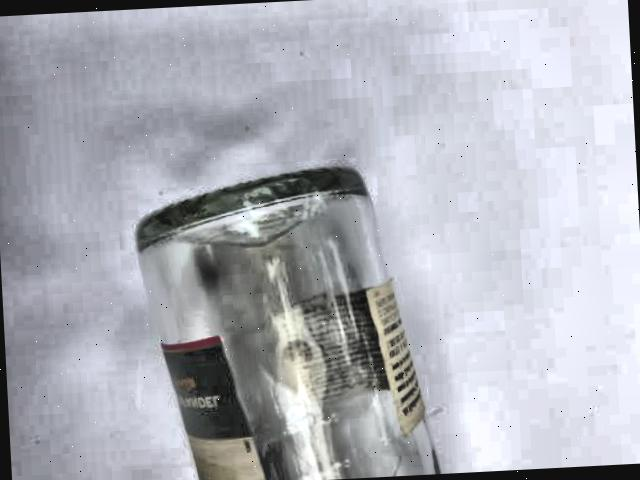Bottles: (136, 141, 464, 480)
